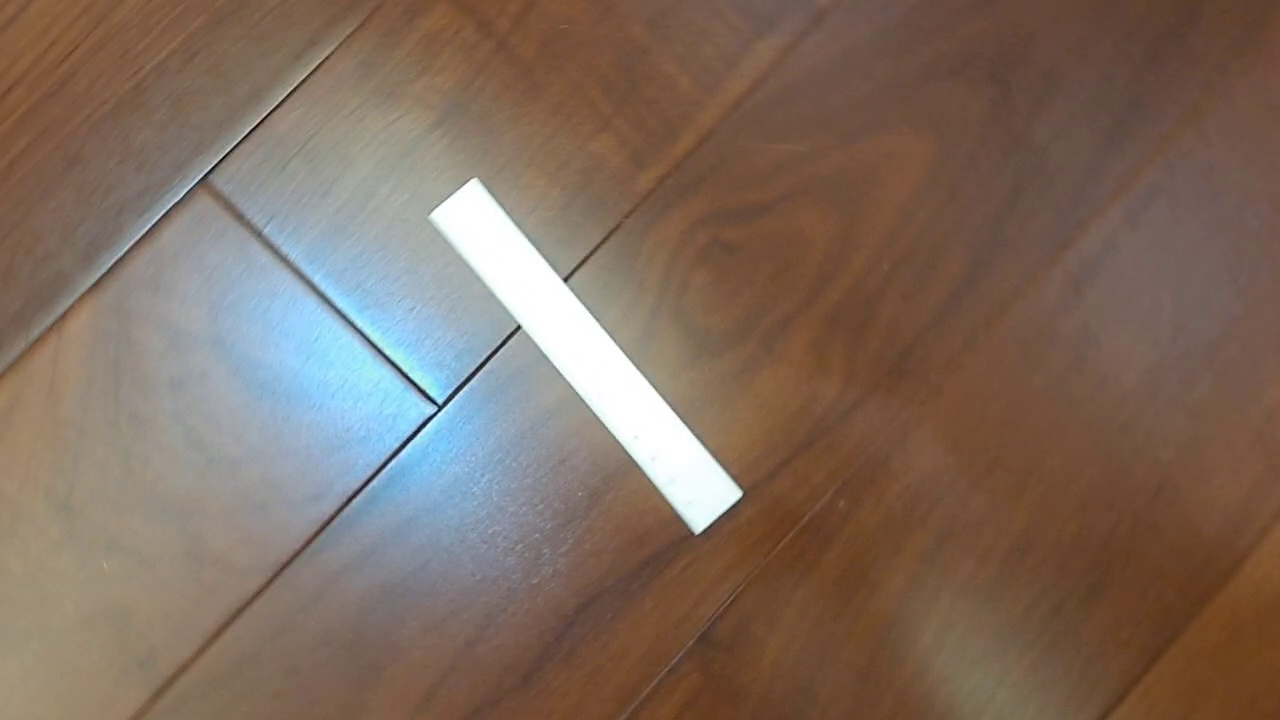ruler: (425, 175, 745, 538)
